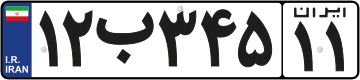character: (94, 9, 157, 67), (157, 7, 199, 72), (236, 6, 275, 73), (199, 7, 238, 72), (62, 8, 95, 73), (320, 20, 355, 75), (34, 8, 61, 74), (292, 20, 320, 74)
